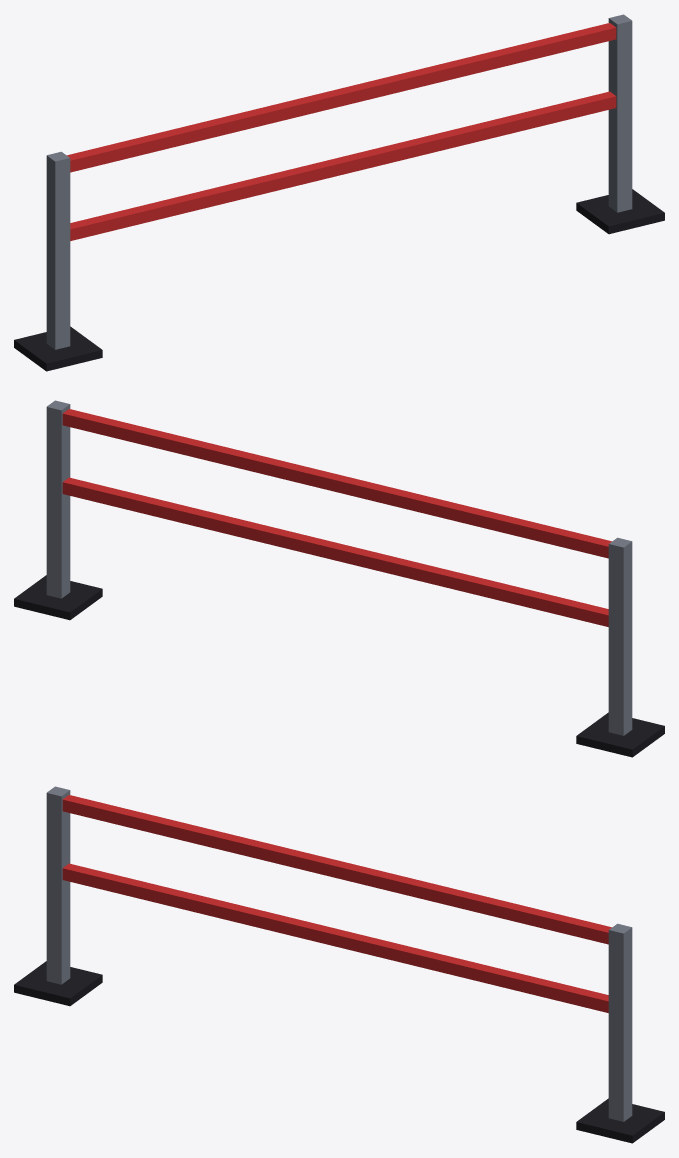
File: Barrera.obj
The picture shows the model from 3 angles, top to bottom: view 1: azimuth 30°, elevation 25°; view 2: azimuth 150°, elevation 25°; view 3: azimuth 330°, elevation 25°; orthographic projection.
Parts seen in each view (by area): view 1: Barrera; view 2: Barrera; view 3: Barrera.
Boxes of the visible parts, left/top/right/bottom form: Barrera: left=14, top=14, right=664, bottom=371; Barrera: left=14, top=400, right=664, bottom=757; Barrera: left=14, top=786, right=664, bottom=1143.
Size of the model in its own units: 3.3 by 1 by 0.3.
1 material, 1 textured.
